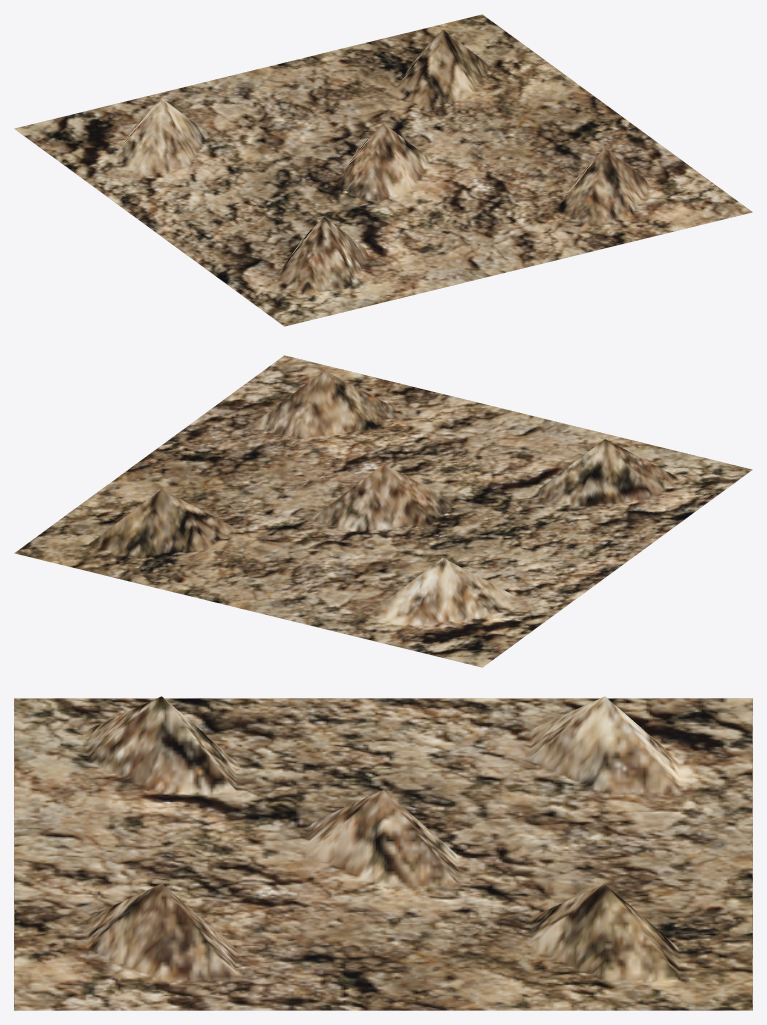
The model's file is rock.fbx.
3 renders of one model, top to bottom at view 1: azimuth 30°, elevation 25°; view 2: azimuth 150°, elevation 25°; view 3: azimuth 270°, elevation 25°, orthographic. The views are drawn at different scales.
Parts seen in each view (by area): view 1: pPlane1; view 2: pPlane1; view 3: pPlane1.
Boxes of the visible parts, box(x1,y1,x2,y2) form: pPlane1: box(14, 14, 752, 326); pPlane1: box(14, 355, 752, 667); pPlane1: box(14, 696, 752, 1010).
Size of the model in its own units: 25 by 2.41 by 25.
